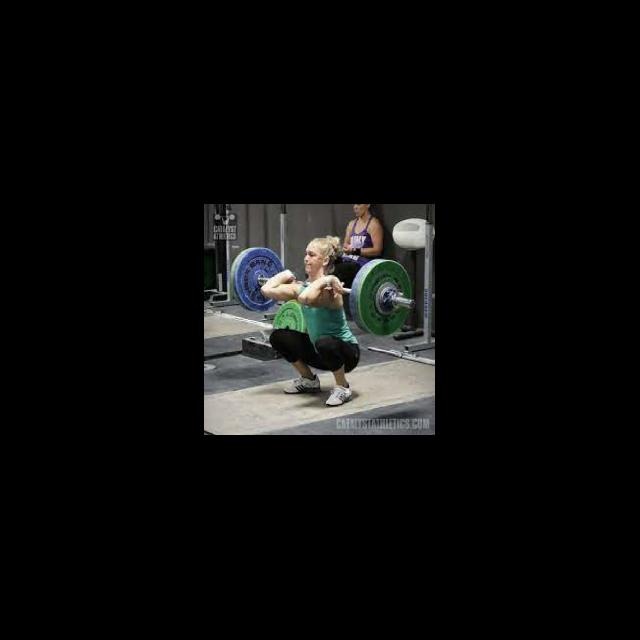barbell: (354, 259, 417, 338)
